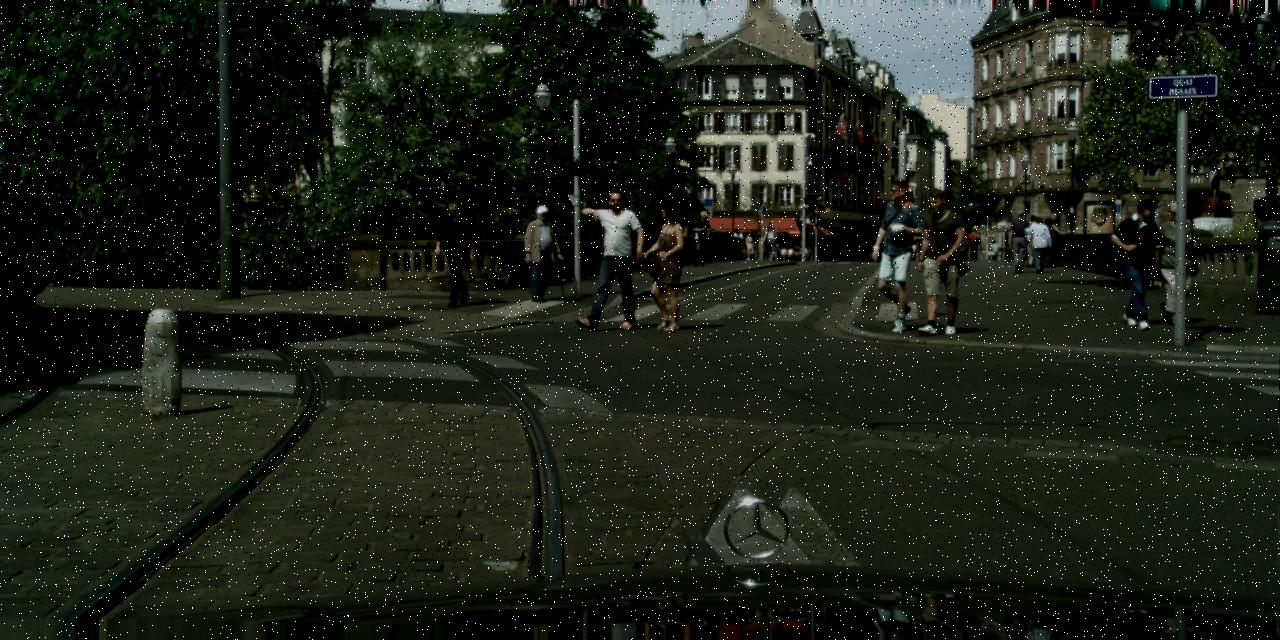ped: (869, 177, 932, 332), (909, 187, 970, 336), (0, 198, 48, 365), (584, 190, 641, 330), (642, 199, 696, 332), (1114, 198, 1168, 327), (1149, 200, 1200, 324), (434, 196, 478, 306), (523, 204, 563, 302), (1007, 209, 1032, 272), (689, 210, 712, 266), (1028, 216, 1050, 272), (1040, 212, 1062, 267), (1019, 214, 1040, 266), (1021, 215, 1042, 266), (762, 221, 777, 261), (966, 225, 980, 259), (731, 226, 744, 259), (742, 230, 752, 259), (866, 239, 874, 260), (990, 239, 998, 259), (837, 244, 843, 260)
